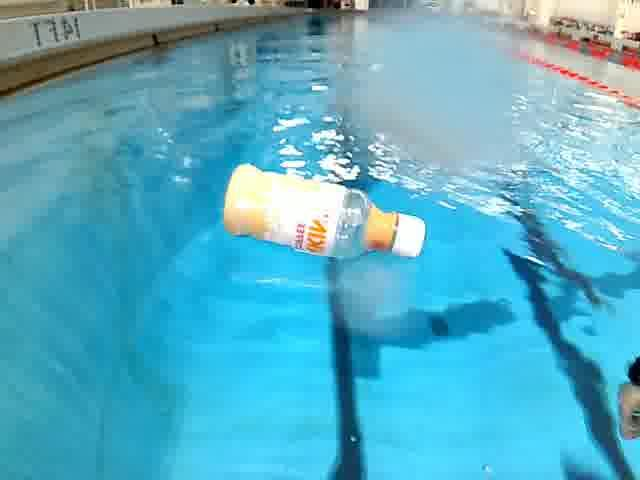Bottle: (210, 147, 439, 280)
